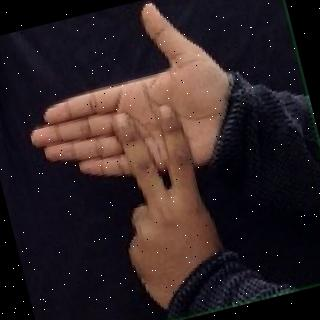N: (5, 0, 289, 320)
